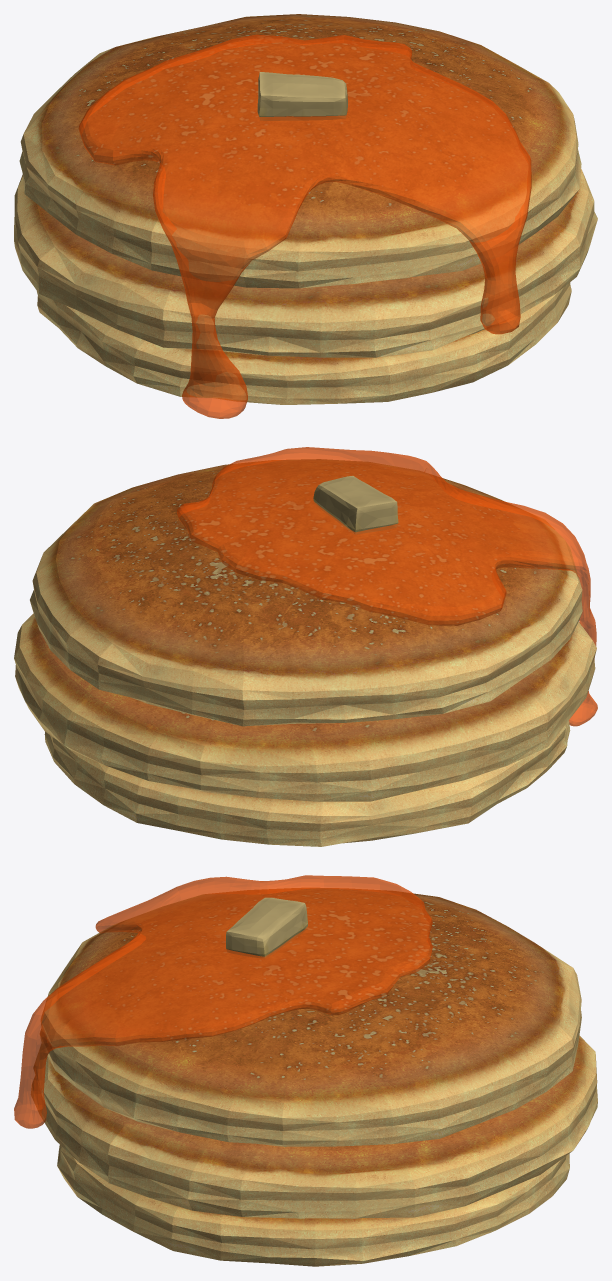
The picture shows the model from 3 angles, top to bottom: view 1: azimuth 30°, elevation 25°; view 2: azimuth 150°, elevation 25°; view 3: azimuth 270°, elevation 25°; orthographic projection. The views are drawn at different scales.
Parts seen in each view (by area): view 1: Pancake_low_003, Group8824, Pancake_low_002, Pancake_low_001, Butter_low_001; view 2: Pancake_low_003, Pancake_low_002, Group8824, Pancake_low_001, Butter_low_001; view 3: Pancake_low_003, Group8824, Pancake_low_002, Pancake_low_001, Butter_low_001.
Part boxes in pixels (box(x1,y1,x2,y2)): Pancake_low_003: box(19, 14, 581, 288); Group8824: box(78, 34, 531, 418); Pancake_low_002: box(14, 169, 597, 357); Pancake_low_001: box(37, 282, 571, 404); Butter_low_001: box(257, 72, 347, 120); Pancake_low_003: box(30, 459, 582, 726); Pancake_low_002: box(14, 613, 596, 801); Group8824: box(176, 447, 597, 726); Pancake_low_001: box(44, 720, 570, 846); Butter_low_001: box(313, 476, 398, 534); Pancake_low_003: box(40, 888, 581, 1146); Group8824: box(14, 875, 432, 1128); Pancake_low_002: box(31, 1035, 597, 1218); Pancake_low_001: box(57, 1144, 569, 1266); Butter_low_001: box(226, 897, 307, 958).
Size of the model in its own units: 137 by 142 by 64.38.
